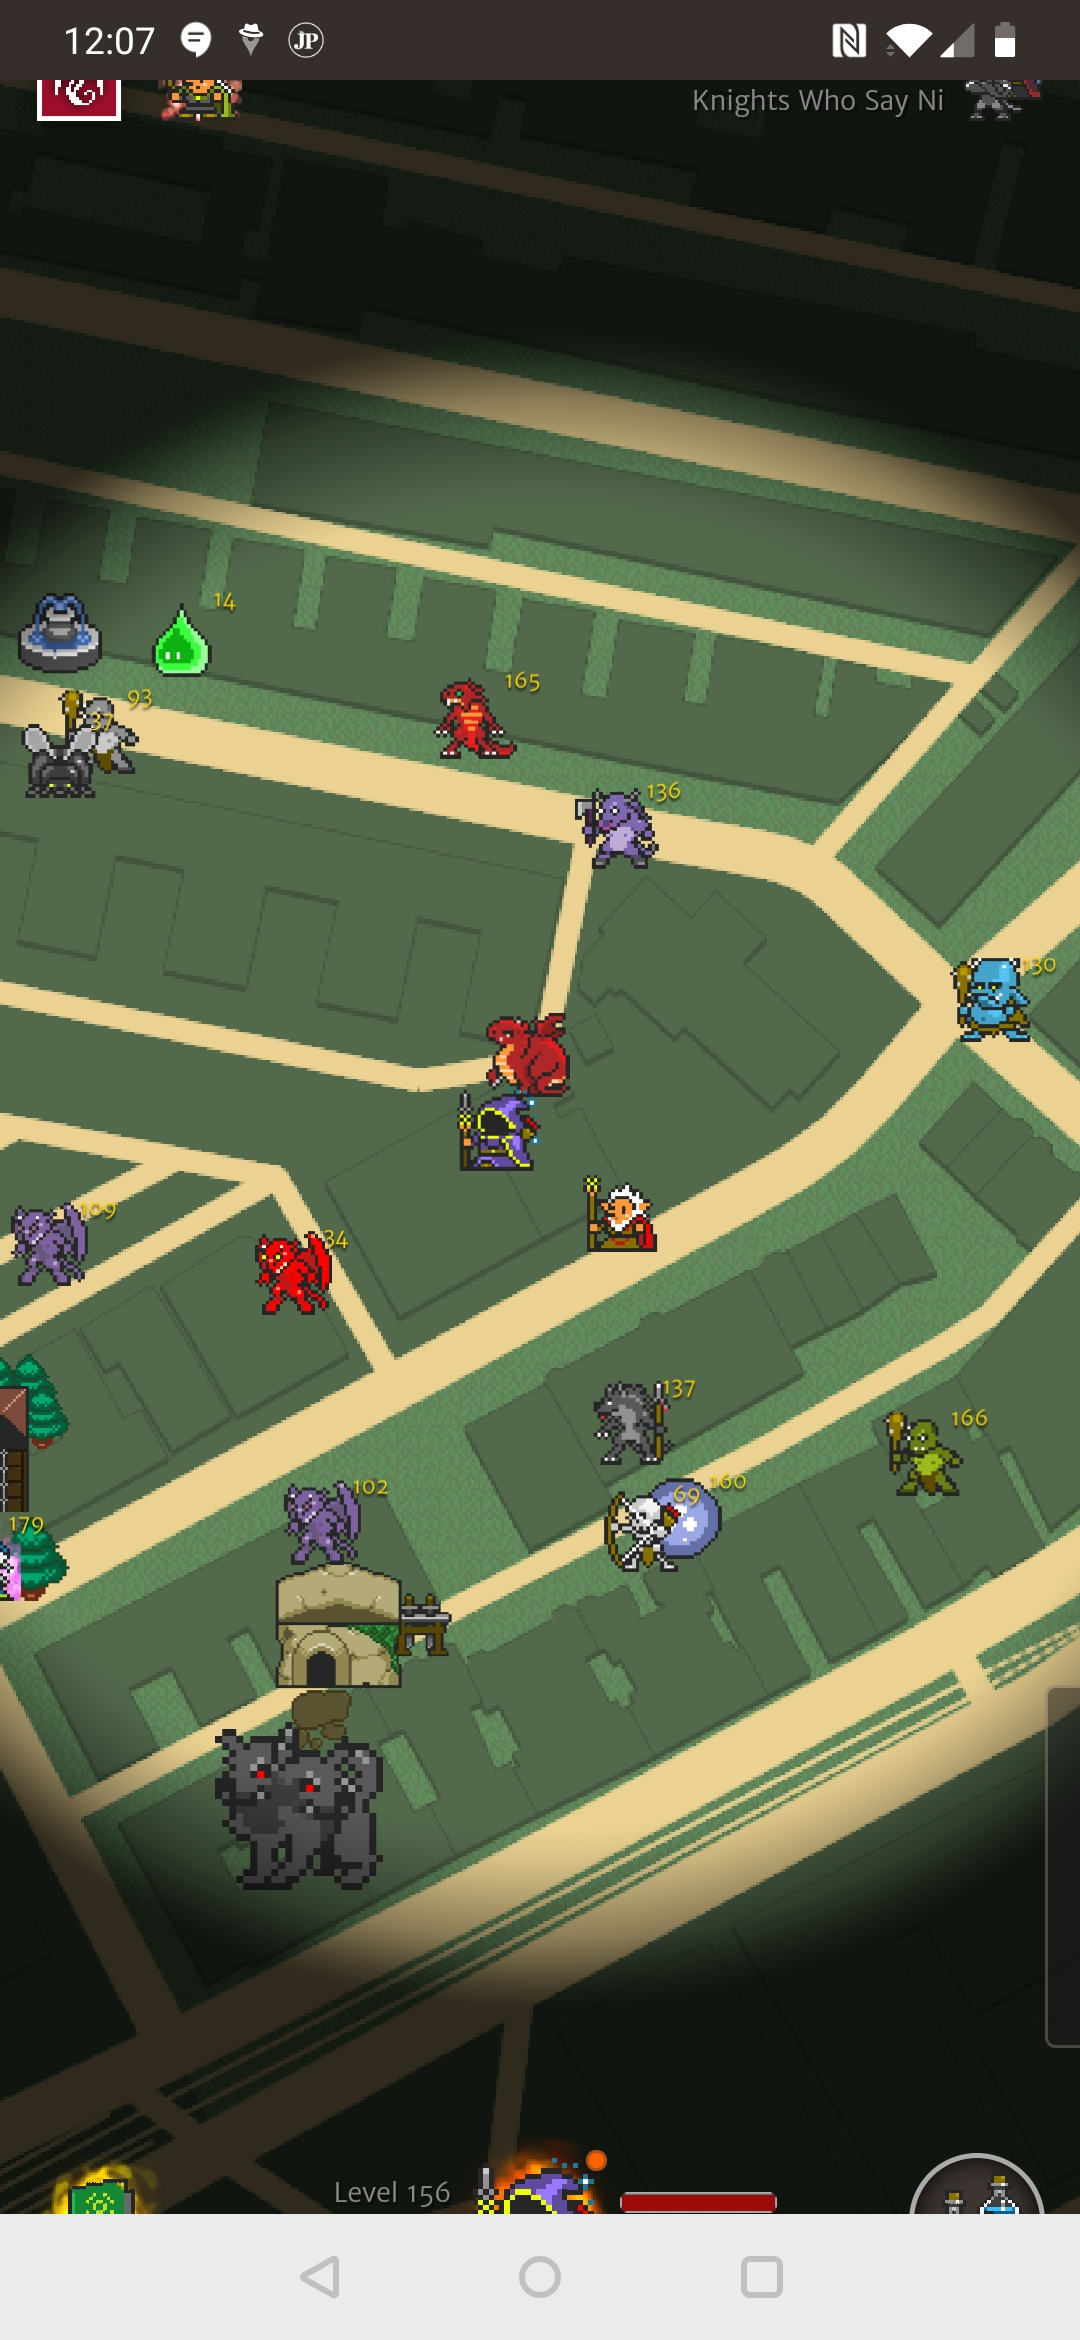monster: (422, 662, 547, 779), (939, 950, 1058, 1058), (5, 1192, 122, 1294), (239, 1224, 354, 1326), (564, 779, 683, 875), (881, 1402, 990, 1506), (586, 1370, 698, 1472), (276, 1472, 390, 1570), (602, 1485, 702, 1584), (15, 707, 117, 801), (147, 589, 237, 684)
player: (446, 1087, 541, 1184)
